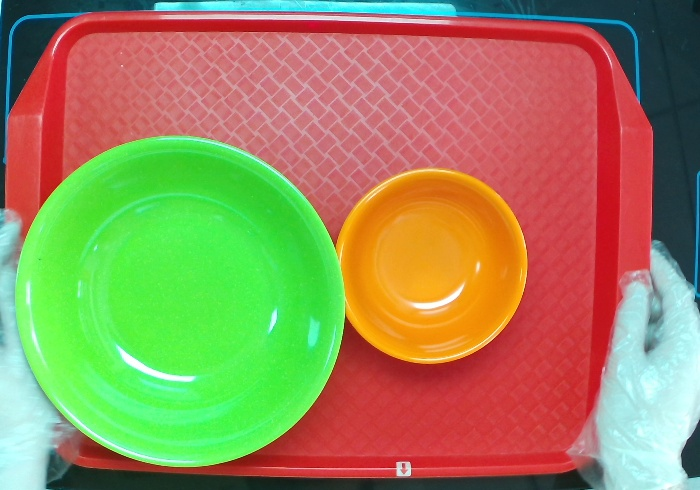YKMZ-Ju_Se_Yuan_Wan: (331, 161, 535, 370)
YKMZ-Lv_Se_Tang_Wan: (10, 131, 349, 474)
